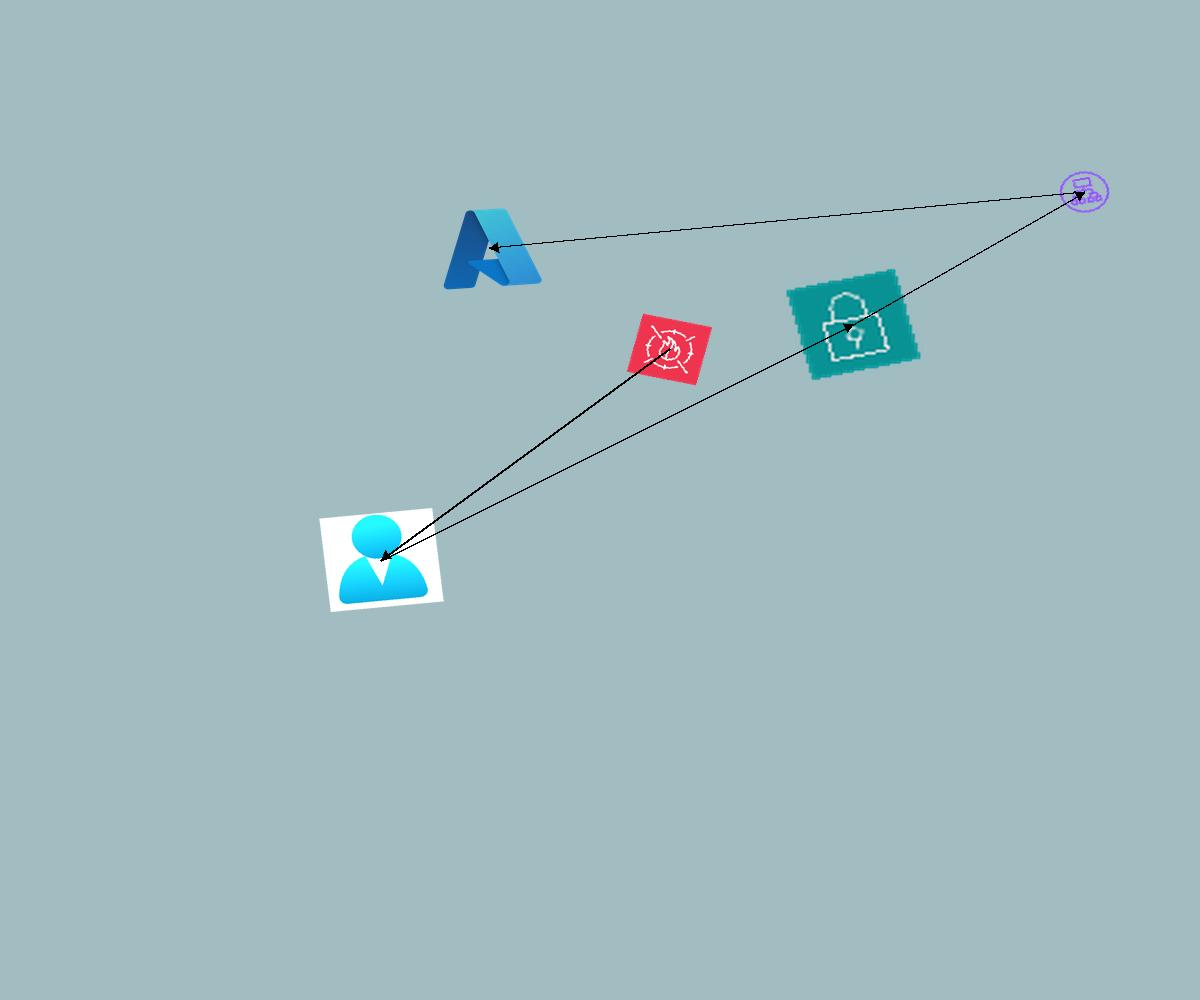AWS-Private-subnet: (784, 267, 923, 382)
AWS-Res_Elastic-Load-Balancing_Application-Load-Balancer: (1052, 165, 1117, 219)
AWS-WAF: (626, 313, 713, 386)
Azure_services: (432, 200, 547, 296)
Azure_users: (319, 508, 444, 612)
